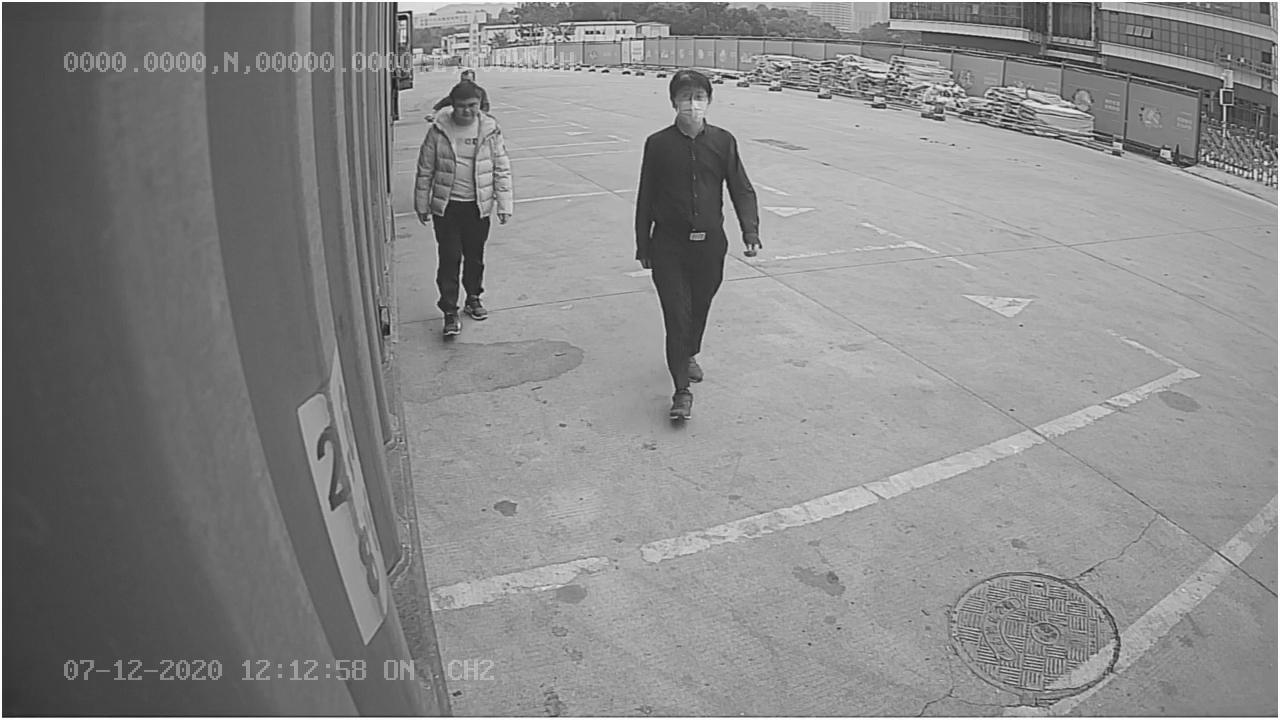person: (634, 62, 765, 419)
